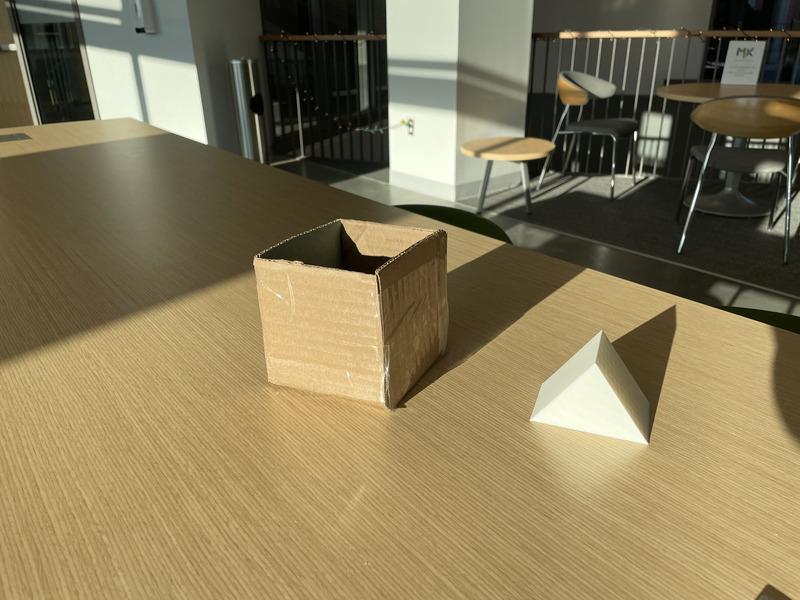payload2: (525, 325, 662, 455)
payload3: (246, 212, 463, 419)
